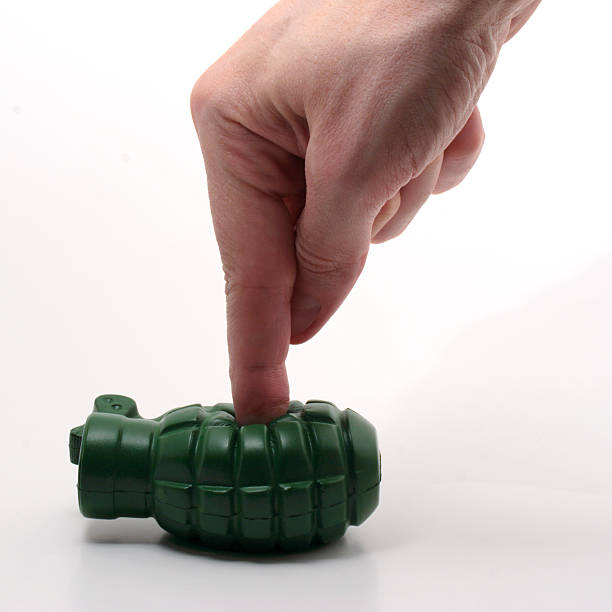e1: (68, 394, 384, 561)
